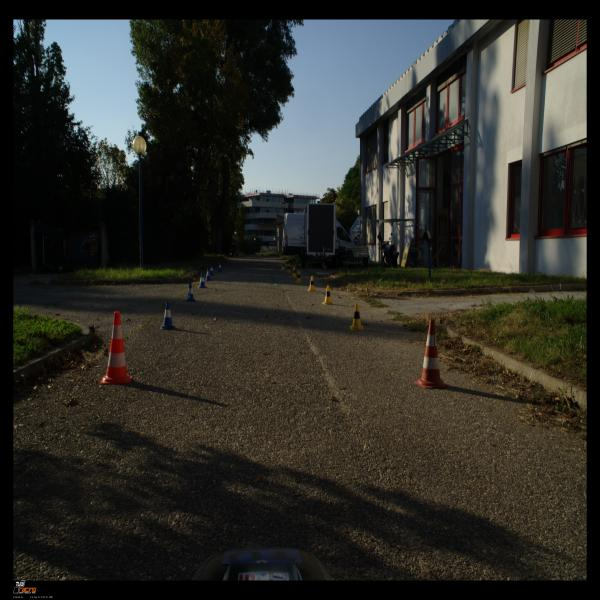blue_cone: (160, 301, 175, 329), (186, 282, 195, 302), (199, 272, 206, 288), (205, 268, 211, 281), (210, 264, 214, 276), (218, 262, 222, 272)
large_orange_cone: (414, 319, 448, 388), (100, 311, 132, 384)
yellow_cone: (350, 303, 364, 331), (321, 285, 334, 305), (307, 276, 317, 291), (295, 271, 302, 283), (292, 267, 297, 278), (286, 264, 292, 273), (281, 261, 286, 270)
